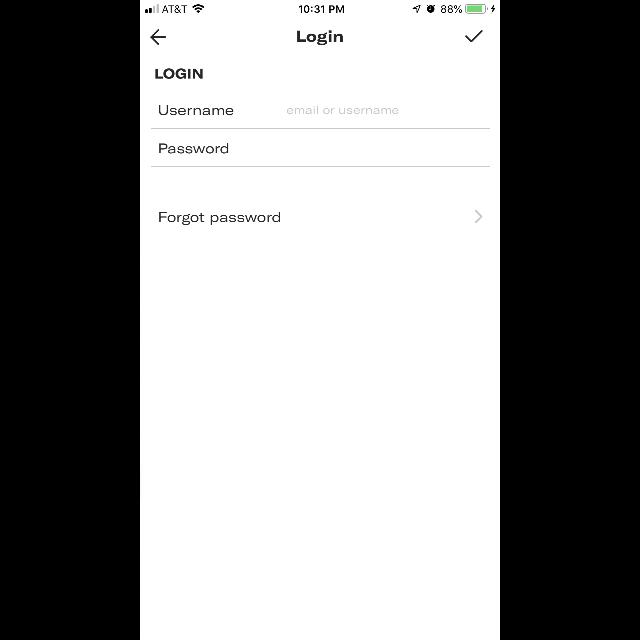icon: (152, 30, 166, 46), (466, 31, 482, 43), (475, 210, 483, 223)
input: (150, 143, 490, 167), (152, 105, 490, 129)
text: (160, 212, 280, 225), (287, 107, 399, 115), (159, 104, 233, 116), (297, 30, 343, 46), (160, 144, 228, 154), (156, 69, 202, 79)
uppertaskbar: (140, 0, 500, 14)
